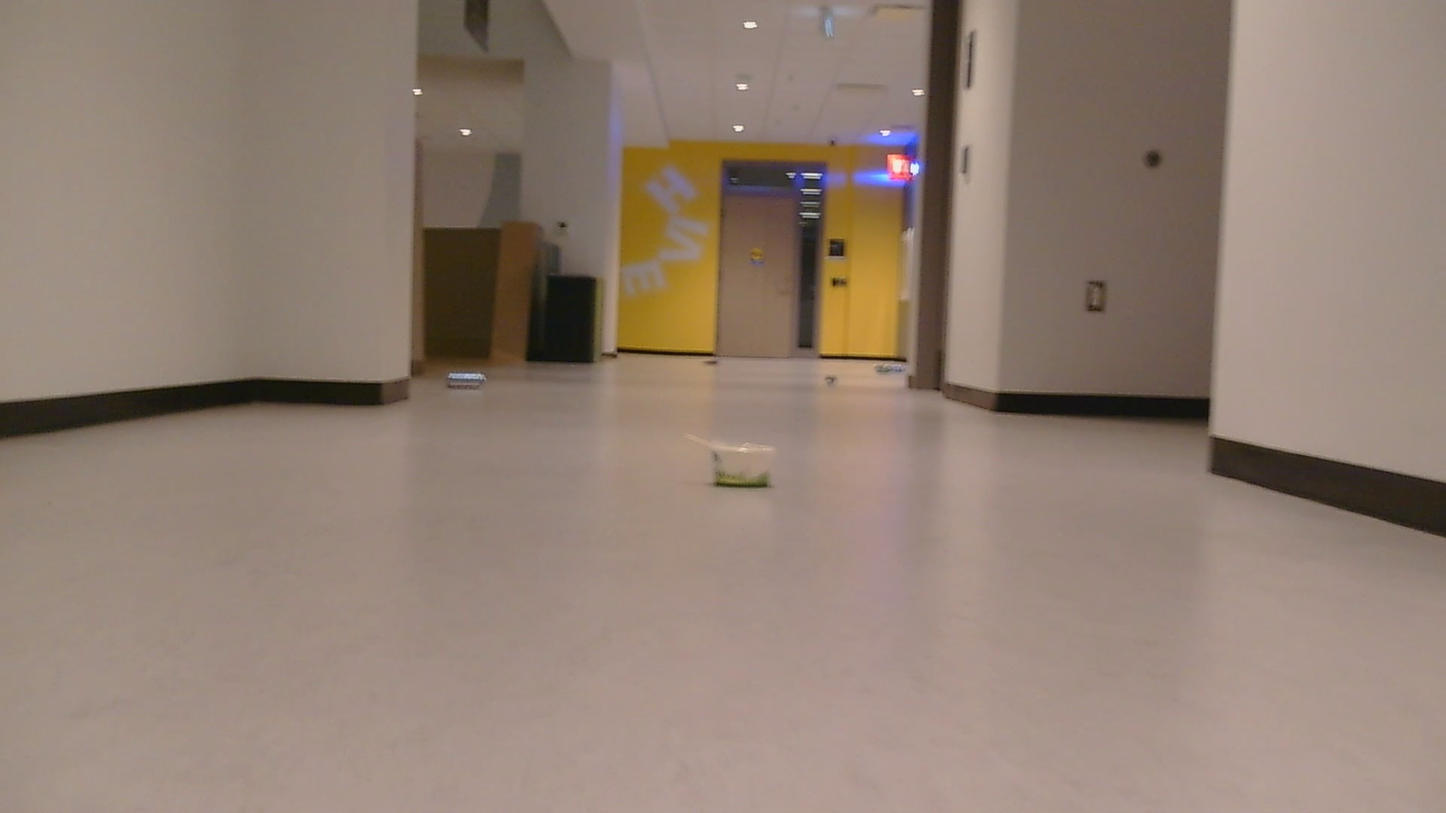carton: (699, 435, 772, 492), (440, 364, 479, 399), (878, 355, 902, 384), (705, 348, 721, 372), (821, 367, 828, 384)
